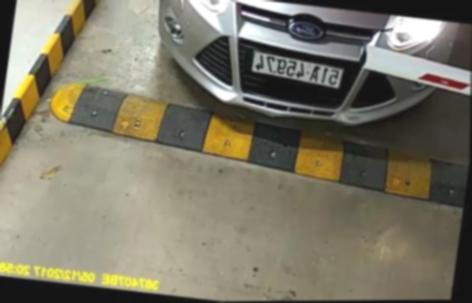License_Plate: (245, 52, 350, 98)
